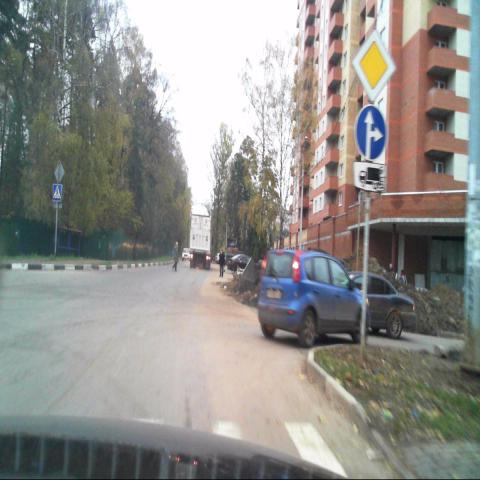4_1_4: (355, 106, 386, 160)
